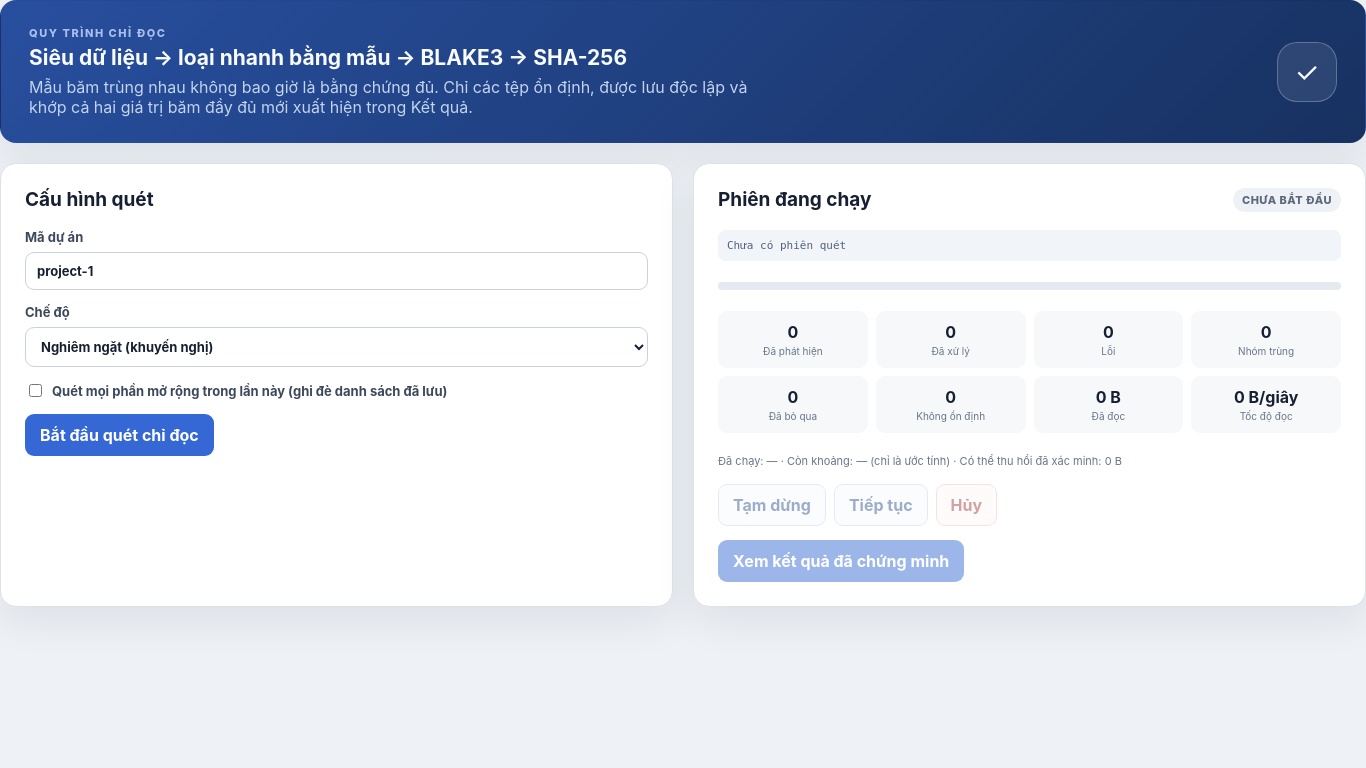
Test: desktop workflows › shows the persisted root cause when a scan is blocked
Click the button "Bắt đầu quét chỉ đọc" at (119, 435), box [25,414,214,456]
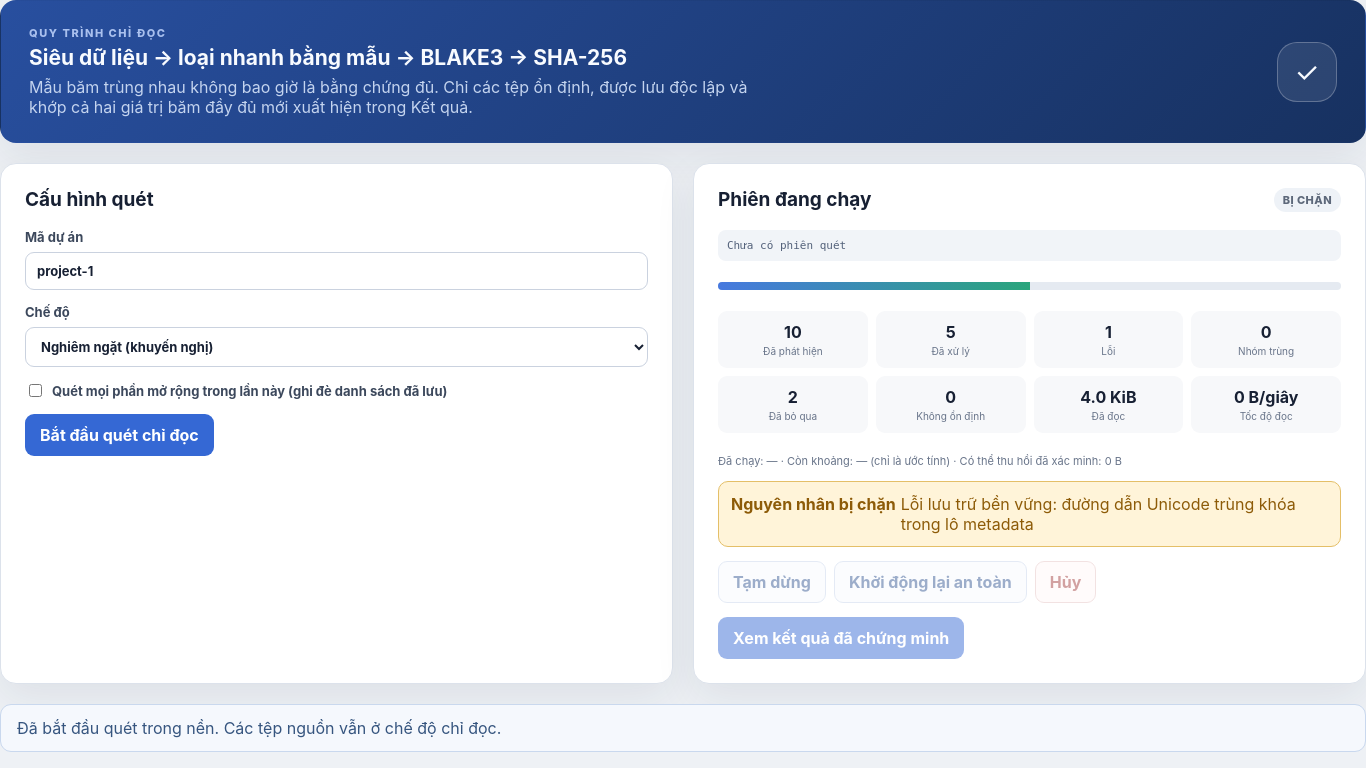
Now the text "Nguyên nhân bị chặn" is shown, box [731,494,896,514]
Now the text "đường dẫn Unicode trùng khóa" is shown, box [901,494,1296,534]
